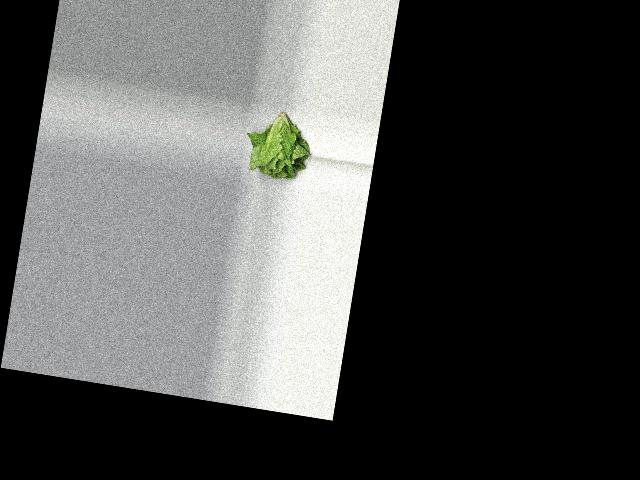lettuce: (242, 102, 320, 186)
